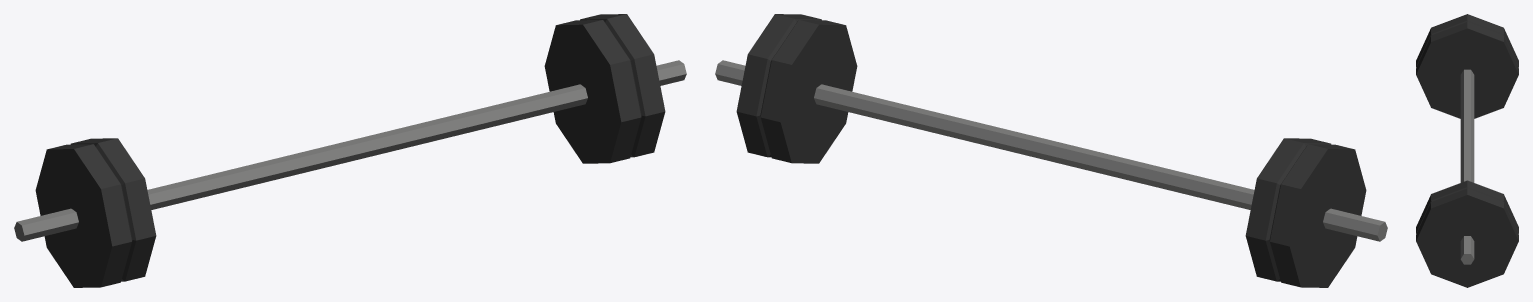
The model's file is SM_Props_Interior_Shop_Gym_Barbell.fbx.
3 views of the same model, side by side, from view 1: azimuth 30°, elevation 25°; view 2: azimuth 150°, elevation 25°; view 3: azimuth 270°, elevation 25° (orthographic). The views are drawn at different scales.
Parts seen in each view (by area): view 1: SM_Props_Interior_Shop_Gym_Barbell; view 2: SM_Props_Interior_Shop_Gym_Barbell; view 3: SM_Props_Interior_Shop_Gym_Barbell.
Part boxes in pixels (box(x1,y1,x2,y2)): SM_Props_Interior_Shop_Gym_Barbell: box(14, 14, 686, 287); SM_Props_Interior_Shop_Gym_Barbell: box(715, 14, 1387, 287); SM_Props_Interior_Shop_Gym_Barbell: box(1416, 14, 1518, 287).
Bounding box in the file's own units: 160 × 32 × 32.
